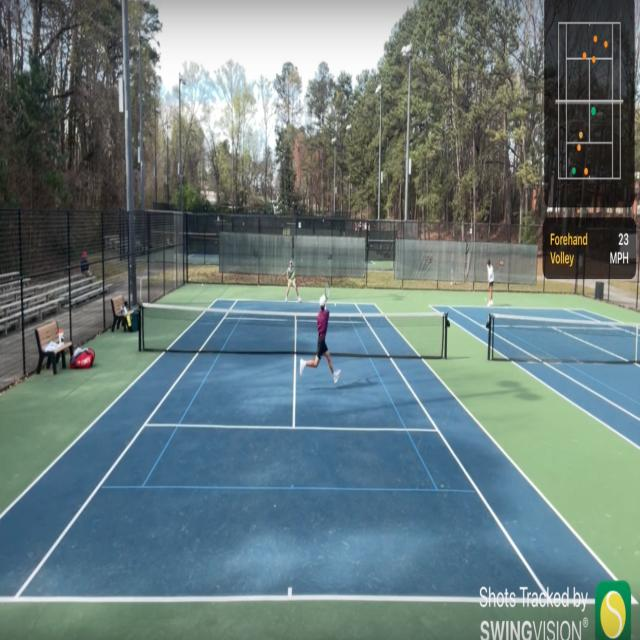ball: (334, 302, 337, 307)
